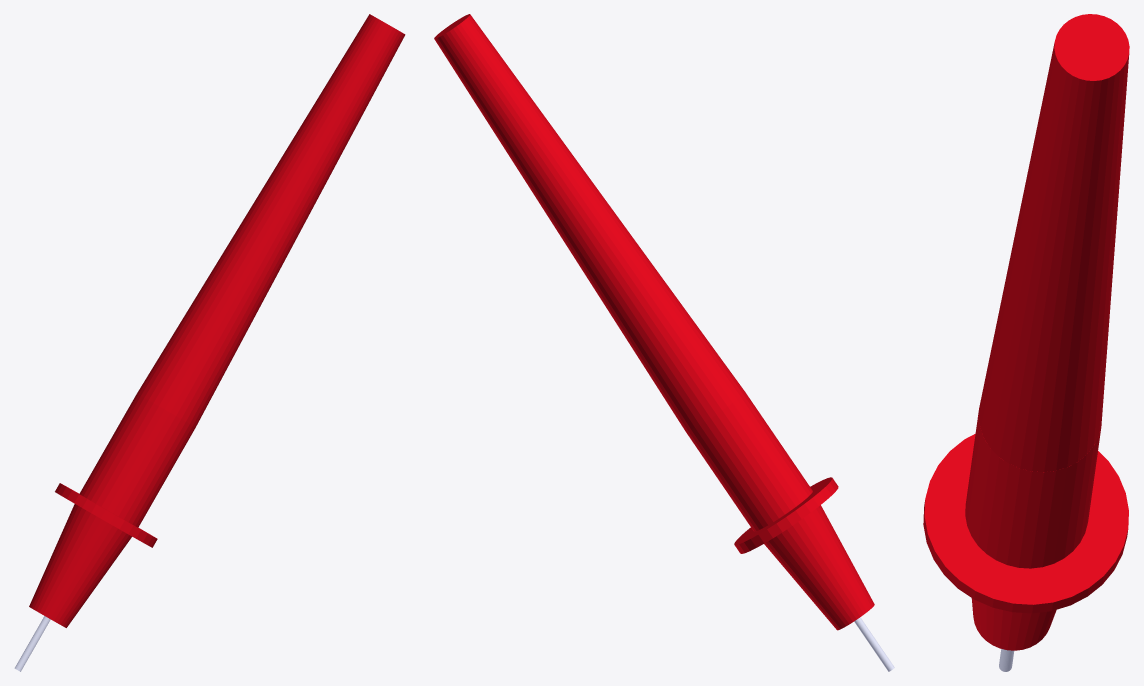
Rendered from better_probe_rotated 1.fbx.
The picture shows the model from 3 angles, left to right: view 1: azimuth 30°, elevation 25°; view 2: azimuth 150°, elevation 25°; view 3: azimuth 270°, elevation 25°; orthographic projection. The views are drawn at different scales.
Visible parts, largest first — view 1: Cylinder.001, Cylinder, Cylinder.002, Cylinder.003; view 2: Cylinder.001, Cylinder, Cylinder.002, Cylinder.003; view 3: Cylinder.001, Cylinder.003, Cylinder, Cylinder.002.
Boxes of the visible parts, left/top/right/bottom form: Cylinder.001: left=137, top=14, right=405, bottom=426; Cylinder: left=79, top=393, right=195, bottom=527; Cylinder.002: left=29, top=504, right=131, bottom=627; Cylinder.003: left=55, top=483, right=157, bottom=547; Cylinder.001: left=434, top=14, right=744, bottom=431; Cylinder: left=685, top=391, right=812, bottom=531; Cylinder.002: left=764, top=505, right=874, bottom=630; Cylinder.003: left=734, top=477, right=838, bottom=553; Cylinder.001: left=978, top=14, right=1129, bottom=472; Cylinder.003: left=923, top=433, right=1128, bottom=613; Cylinder: left=965, top=408, right=1101, bottom=568; Cylinder.002: left=971, top=598, right=1056, bottom=650.
Size of the model in its own units: 251 by 320 by 60.16.
